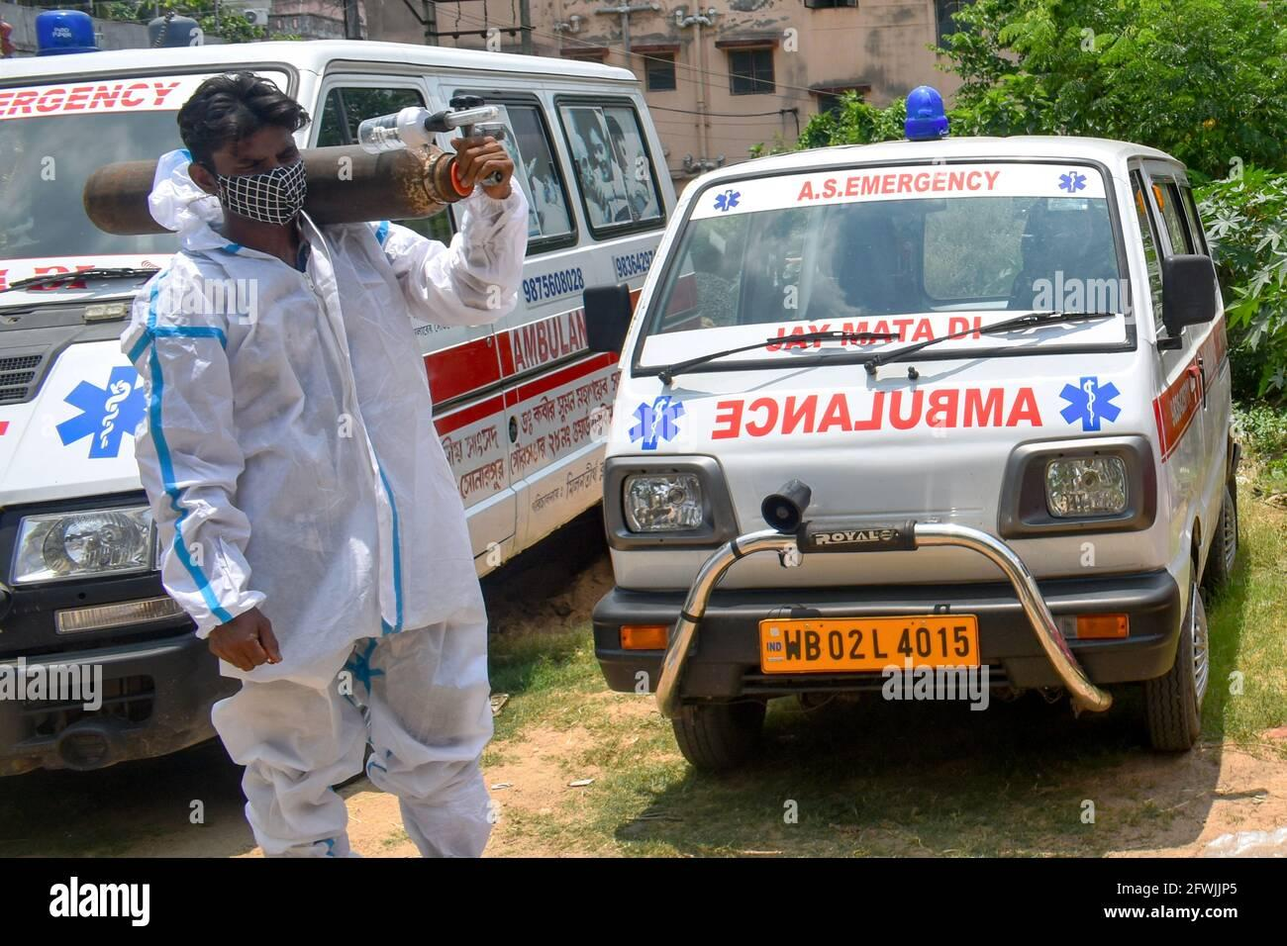Emergency-Vehicles: (0, 0, 655, 770), (599, 72, 1284, 784)
